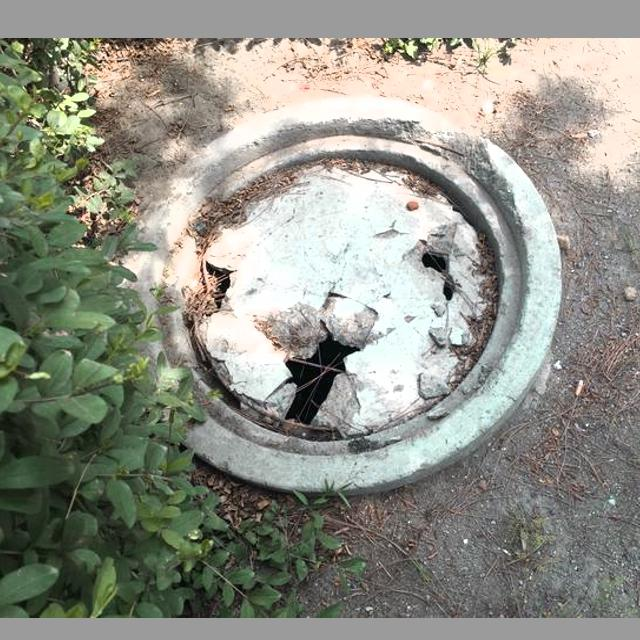broke: (93, 94, 575, 496)
